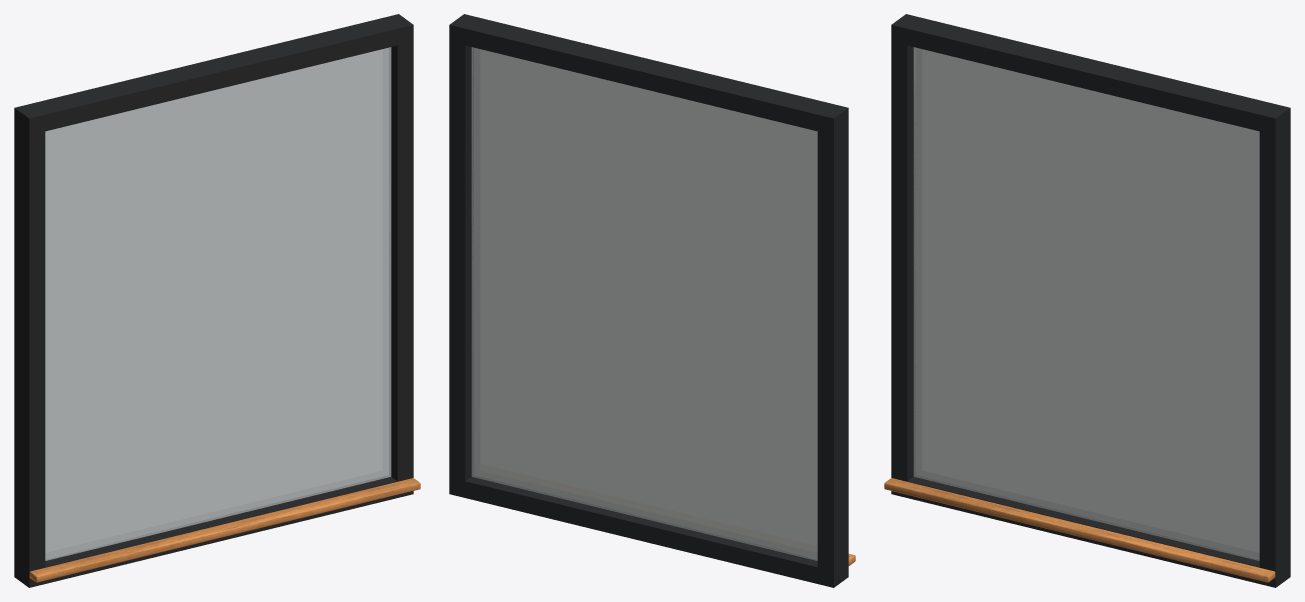
File: architecture.frosted-window.glb
3 renders of one model, left to right at view 1: azimuth 30°, elevation 25°; view 2: azimuth 150°, elevation 25°; view 3: azimuth 330°, elevation 25°, orthographic.
Parts seen in each view (by area): view 1: architecture.frosted-window.001; view 2: architecture.frosted-window.001; view 3: architecture.frosted-window.001.
Part boxes in pixels (left/top/right/bottom): architecture.frosted-window.001: left=14, top=14, right=420, bottom=587; architecture.frosted-window.001: left=449, top=14, right=855, bottom=587; architecture.frosted-window.001: left=884, top=14, right=1290, bottom=587.
Bounding box in the file's own units: 1.2 × 1.4 × 0.12.
3 materials, 1 textured.
